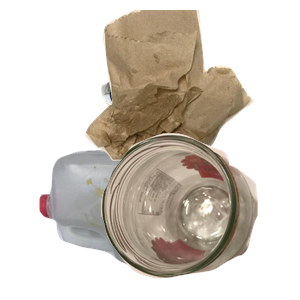glass: (98, 131, 300, 300)
metal: (99, 70, 236, 176)
plastic: (37, 147, 254, 300)
trash: (83, 10, 300, 163)
